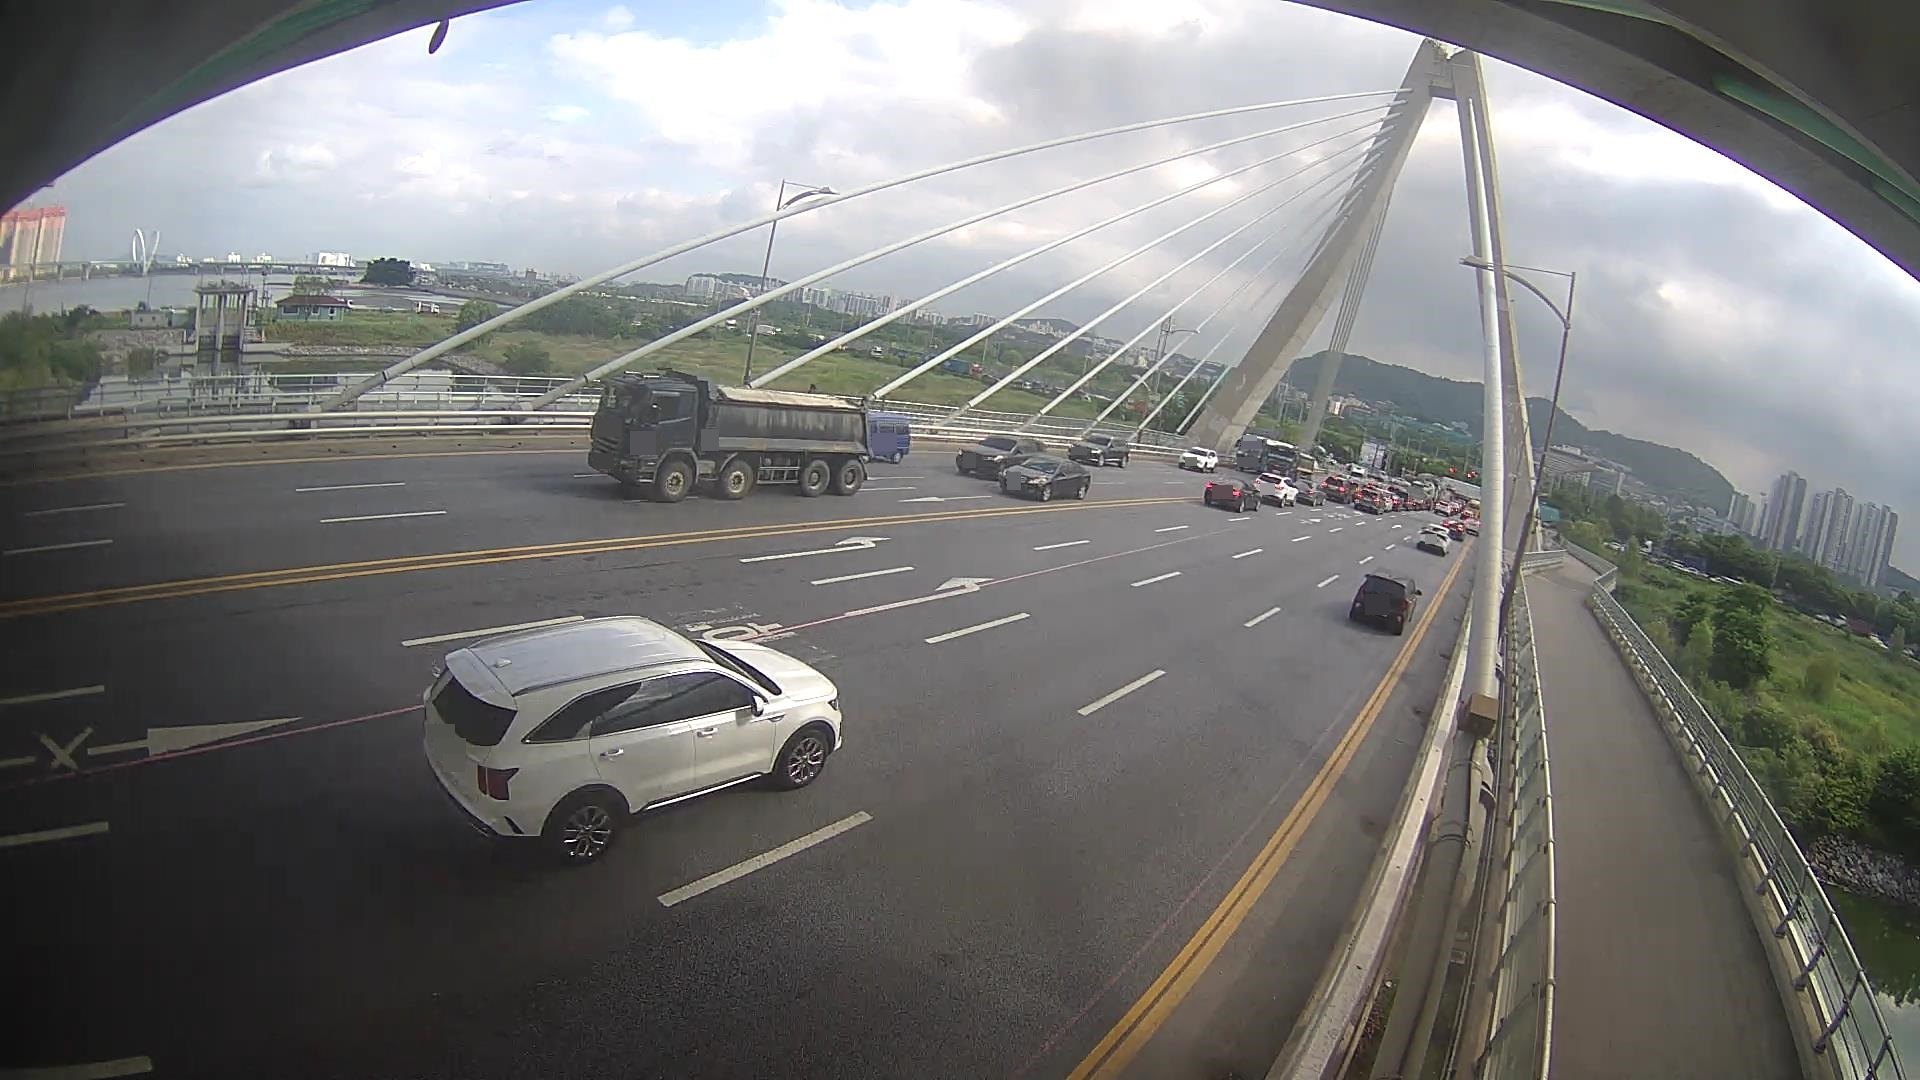정상차량: (586, 368, 876, 504)
